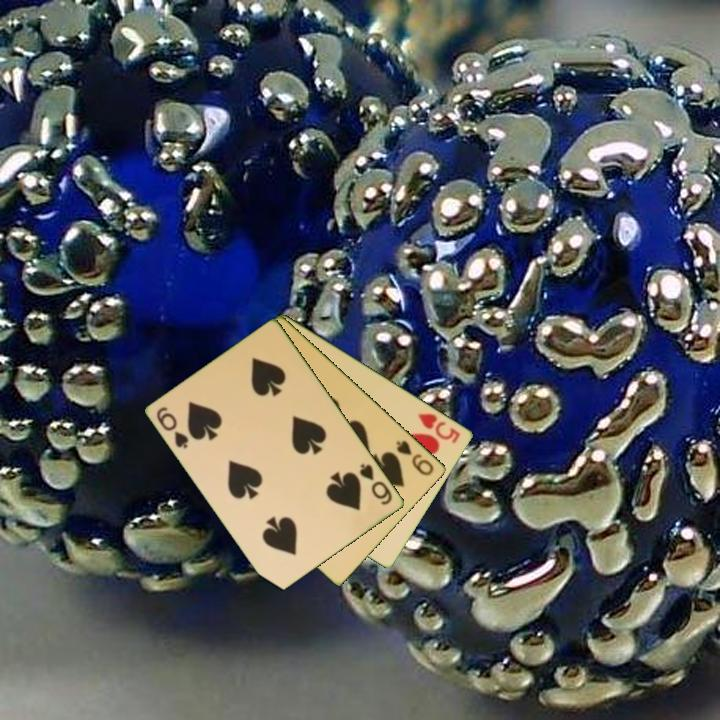5h: (415, 410, 464, 446)
6s: (356, 460, 396, 508), (153, 403, 192, 452)
9s: (393, 437, 437, 478)
